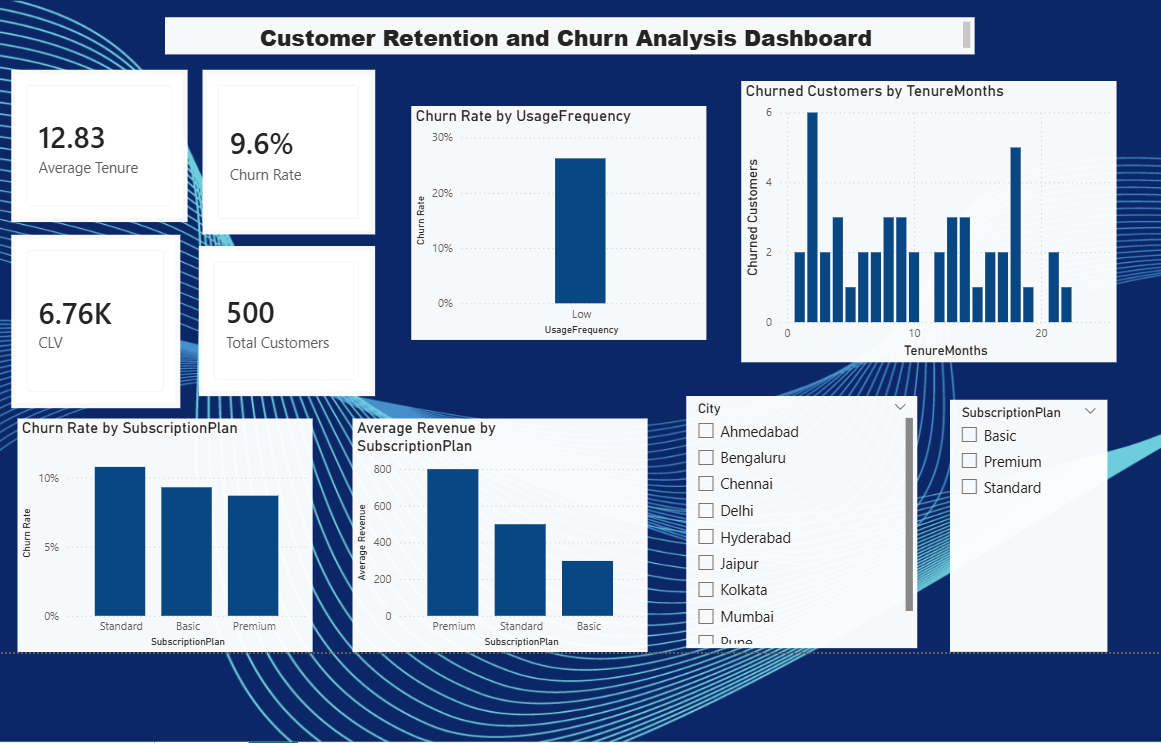

This screenshot's page, from the dashboard's own definition file:
{"tool":"powerbi","page":{"name":"Page 1","canvas":[1280,720],"ordinal":0},"visuals":[{"type":"cardVisual","fields":{"Data":["CustomerData.Average Tenure"]},"box":[17.8,81,193.5,167.4],"z":0},{"type":"cardVisual","fields":{"Data":["CustomerData.CLV"]},"box":[17.8,262.1,185.2,190.7],"z":1000},{"type":"cardVisual","fields":{"Data":["CustomerData.Total Customers"]},"box":[223.7,274.4,193.5,164.7],"z":2000},{"type":"cardVisual","fields":{"Data":["CustomerData.Churn Rate"]},"box":[227.8,81,189.4,181.1],"z":3000},{"type":"clusteredColumnChart","fields":{"Category":["CustomerData.SubscriptionPlan"],"Y":["CustomerData.Churn Rate"]},"box":[24.7,463.8,323.8,256.6],"z":4000},{"type":"clusteredColumnChart","fields":{"Category":["CustomerData.UsageFrequency"],"Y":["CustomerData.Churn Rate"]},"box":[456.9,120.8,323.8,256.6],"z":5000},{"type":"clusteredColumnChart","fields":{"Category":["CustomerData.TenureMonths"],"Y":["CustomerData.Churned Customers"]},"box":[819.2,93.3,411.7,308.7],"z":6000},{"type":"clusteredColumnChart","fields":{"Category":["CustomerData.SubscriptionPlan"],"Y":["CustomerData.Average Revenue"]},"box":[392.5,463.8,323.8,256.6],"z":7000},{"type":"slicer","fields":{"Values":["CustomerData.City"]},"box":[758.8,439.1,253.9,277.2],"z":8000},{"type":"slicer","fields":{"Values":["CustomerData.SubscriptionPlan"]},"box":[1048.4,443.2,172.9,277.2],"z":9000},{"type":"textbox","box":[186.6,23.3,889.2,41.2],"z":9001}]}

Visuals, with their boxes in screenshot pixels (x1, y1, x2, y2):
cardVisual - CustomerData.Average Tenure: 0,63,178,218
cardVisual - CustomerData.CLV: 0,231,170,408
cardVisual - CustomerData.Total Customers: 189,242,369,395
cardVisual - CustomerData.Churn Rate: 193,63,369,231
clusteredColumnChart - CustomerData.SubscriptionPlan x CustomerData.Churn Rate: 5,418,305,656
clusteredColumnChart - CustomerData.UsageFrequency x CustomerData.Churn Rate: 406,100,706,338
clusteredColumnChart - CustomerData.TenureMonths x CustomerData.Churned Customers: 742,74,1123,361
clusteredColumnChart - CustomerData.SubscriptionPlan x CustomerData.Average Revenue: 346,418,646,656
slicer - CustomerData.City: 686,395,921,652
slicer - CustomerData.SubscriptionPlan: 954,399,1114,656
textbox: 155,10,980,48
